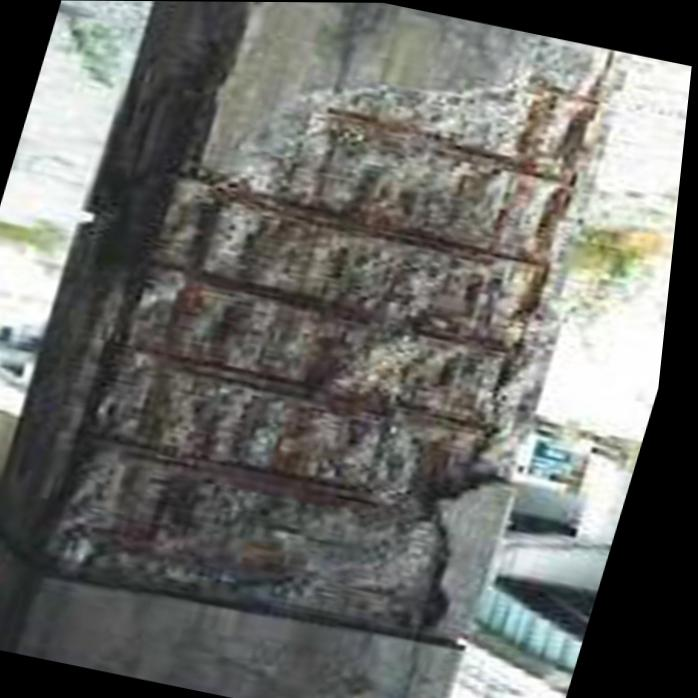damage: (0, 1, 629, 642)
